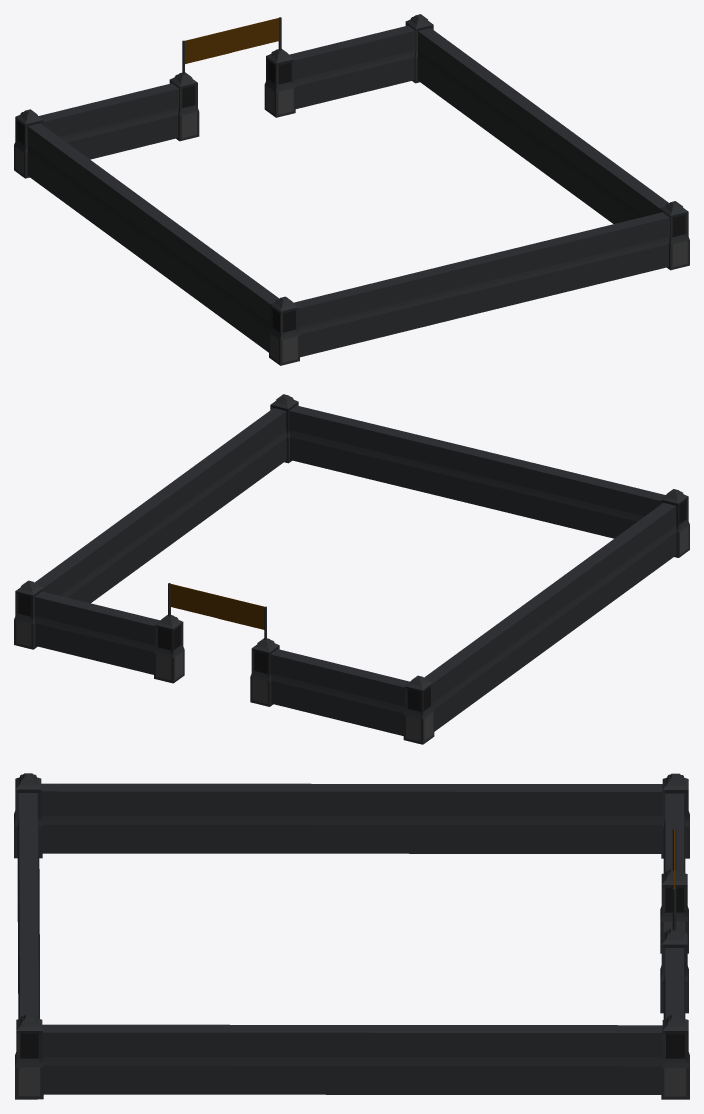
Rendered from Barreras.fbx.
3 renders of one model, top to bottom at view 1: azimuth 30°, elevation 25°; view 2: azimuth 150°, elevation 25°; view 3: azimuth 270°, elevation 25°, orthographic. The views are drawn at different scales.
Parts seen in each view (by area): view 1: Valla; view 2: Valla; view 3: Valla.
Boxes of the visible parts, left/top/right/bottom form: Valla: left=14, top=14, right=689, bottom=365; Valla: left=14, top=394, right=689, bottom=744; Valla: left=14, top=773, right=689, bottom=1099.
Size of the model in its own units: 5419 by 1181 by 6107.
